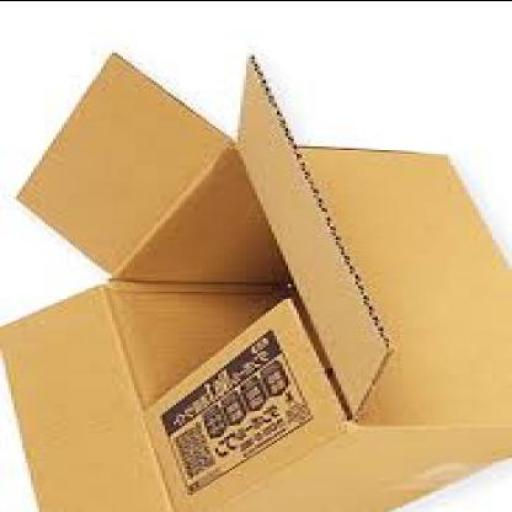cardboard: (0, 49, 510, 510)
